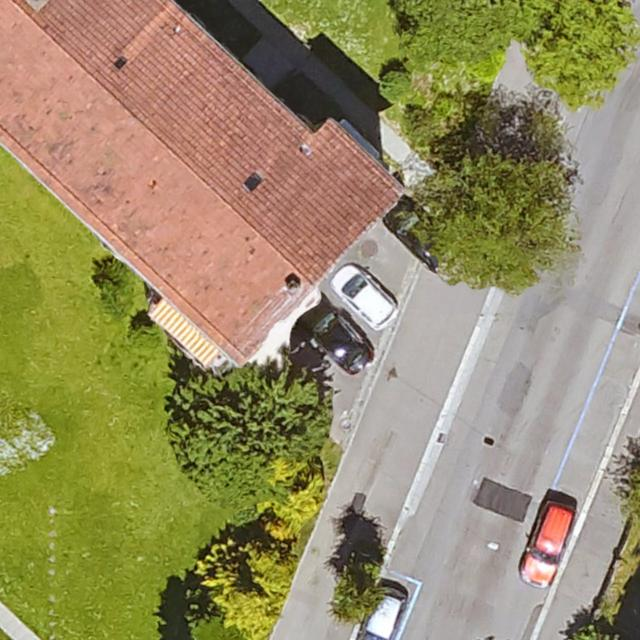tree: (410, 99, 577, 287), (168, 368, 326, 498), (524, 0, 637, 101), (198, 537, 293, 634), (331, 561, 384, 621)
